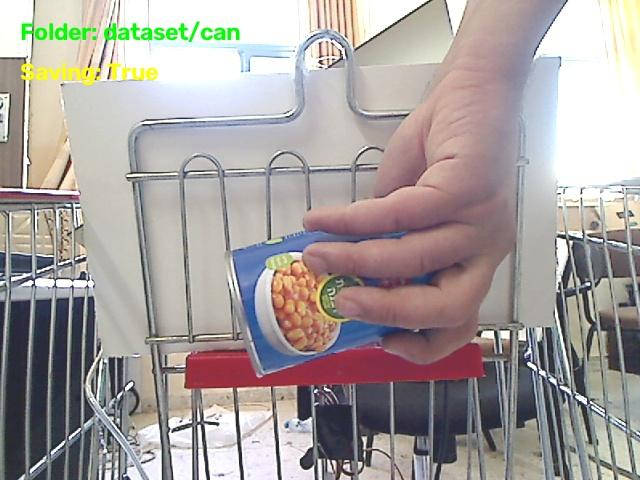can: (227, 232, 431, 375)
